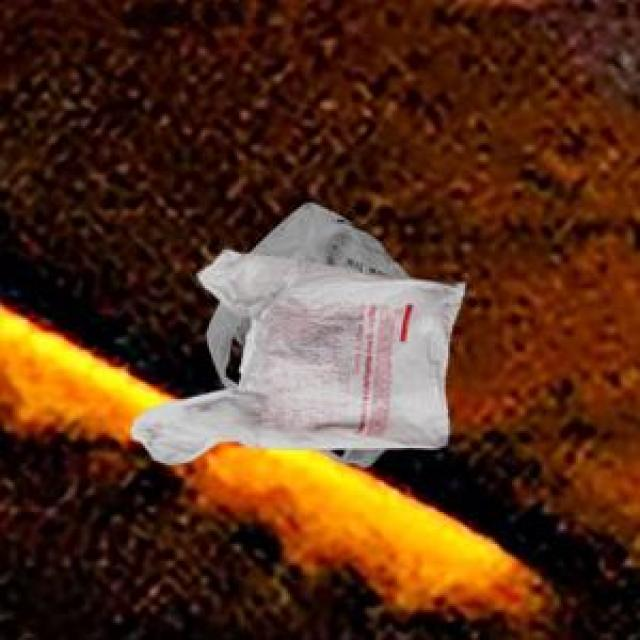plastic: (109, 180, 478, 501)
